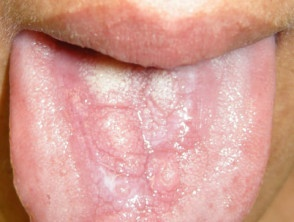SJS-TEN: (65, 38, 229, 221)
